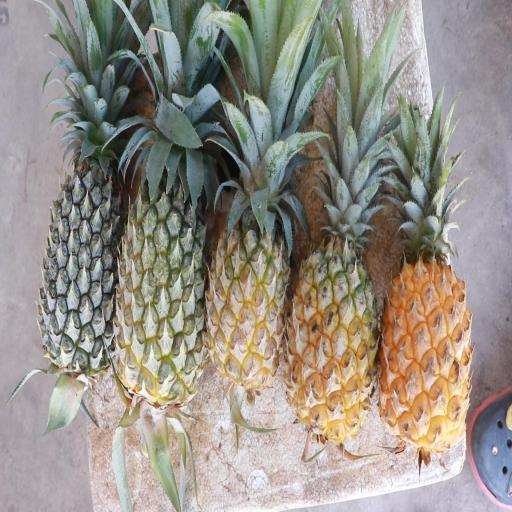------------------------------: (116, 130, 203, 404)
Pineapple - v8 v1: (372, 204, 474, 442), (292, 197, 374, 429), (204, 160, 288, 382)
